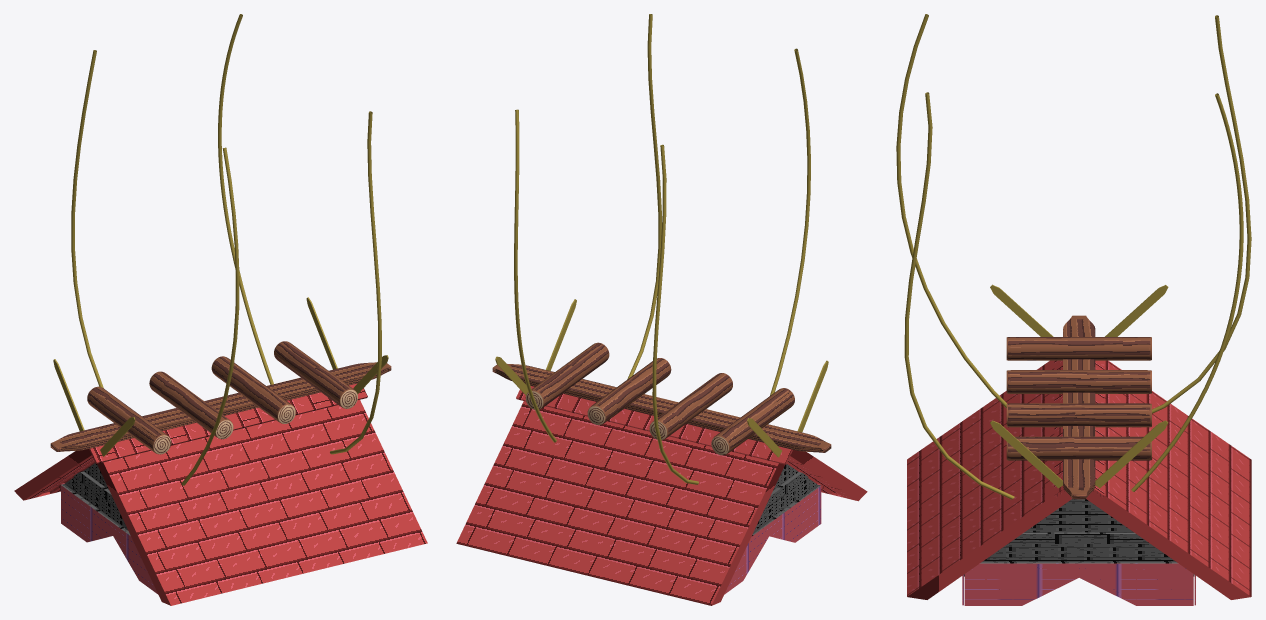
Rendered from RingRoof .fbx.
3 renders of one model, left to right at view 1: azimuth 30°, elevation 25°; view 2: azimuth 150°, elevation 25°; view 3: azimuth 270°, elevation 25°, orthographic. The views are drawn at different scales.
Parts seen in each view (by area): view 1: Ring_Roof, Log_Pillars, Ring_Rooff_Plank, Ring_Roof_Gutter, Flag, Ring_Roof_Main, Roof_Hanger_2, Roof_Hanger_4, Ring_Roof_Decor, Roof_Hanger_1, Roof_Hanger_3; view 2: Ring_Roof, Log_Pillars, Ring_Rooff_Plank, Ring_Roof_Gutter, Flag, Ring_Roof_Main, Roof_Hanger_3, Ring_Roof_Decor, Roof_Hanger_2, Roof_Hanger_1, Roof_Hanger_4; view 3: Ring_Roof, Log_Pillars, Flag, Ring_Roof_Main, Ring_Roof_Decor, Ring_Rooff_Plank, Roof_Hanger_2, Roof_Hanger_4, Roof_Hanger_3, Roof_Hanger_1, Ring_Roof_Gutter.
Part boxes in pixels (x1,y1,x2,y2): Ring_Roof: (14,400,427,605); Log_Pillars: (87,341,357,454); Ring_Rooff_Plank: (50,362,391,451); Ring_Roof_Gutter: (89,383,367,463); Flag: (61,485,157,593); Ring_Roof_Main: (60,463,130,535); Roof_Hanger_2: (330,111,381,454); Roof_Hanger_4: (218,14,273,384); Ring_Roof_Decor: (53,297,388,456); Roof_Hanger_1: (181,147,239,485); Roof_Hanger_3: (71,50,103,388); Ring_Roof: (456,401,867,605); Log_Pillars: (525,342,794,455); Ring_Rooff_Plank: (492,364,831,452); Ring_Roof_Gutter: (516,386,792,464); Flag: (724,486,821,594); Ring_Roof_Main: (752,464,820,535); Roof_Hanger_3: (652,144,698,484); Ring_Roof_Decor: (495,299,828,457); Roof_Hanger_2: (627,14,661,379); Roof_Hanger_1: (770,48,810,395); Roof_Hanger_4: (514,109,556,442); Ring_Roof: (907,360,1251,599); Log_Pillars: (1006,337,1151,460); Flag: (964,563,1193,605); Ring_Roof_Main: (964,499,1194,576); Ring_Roof_Decor: (990,284,1168,488); Ring_Rooff_Plank: (1063,315,1095,499); Roof_Hanger_2: (904,92,1014,499); Roof_Hanger_4: (1131,93,1243,491); Roof_Hanger_3: (1152,15,1251,413); Roof_Hanger_1: (896,14,1006,408); Ring_Roof_Gutter: (1054,360,1104,497).
Size of the model in its own units: 2605 by 3383 by 2184.
